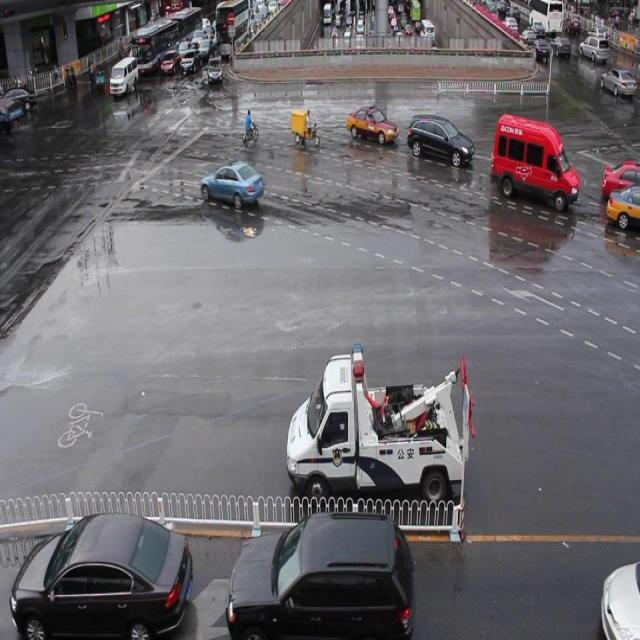bus: (287, 344, 475, 513)
car: (226, 514, 413, 640), (14, 512, 191, 640), (408, 116, 474, 170), (599, 559, 640, 640), (200, 161, 262, 208), (347, 105, 398, 145), (602, 159, 640, 202), (606, 186, 640, 231)
truck: (490, 113, 580, 213)
